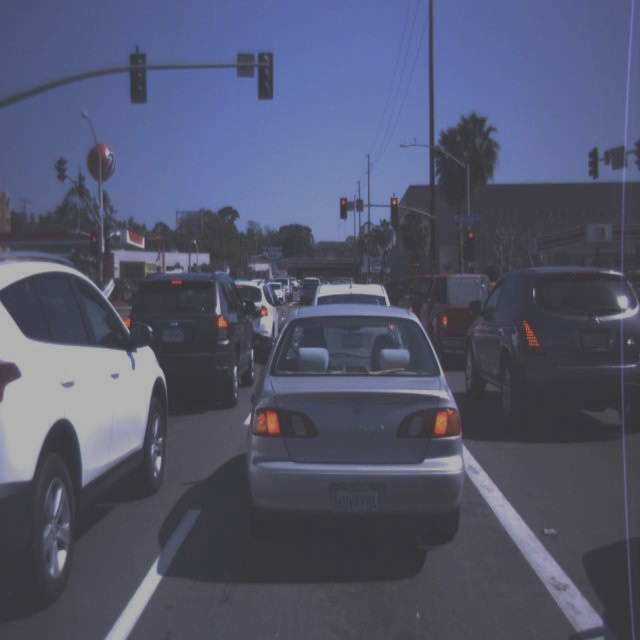stop: (390, 198, 399, 216), (467, 232, 475, 245)
stop left: (87, 233, 102, 260), (336, 195, 351, 222)
stop left traffic light: (87, 233, 102, 260), (336, 195, 351, 222)
stop traffic light: (390, 198, 399, 216), (467, 232, 475, 245)
